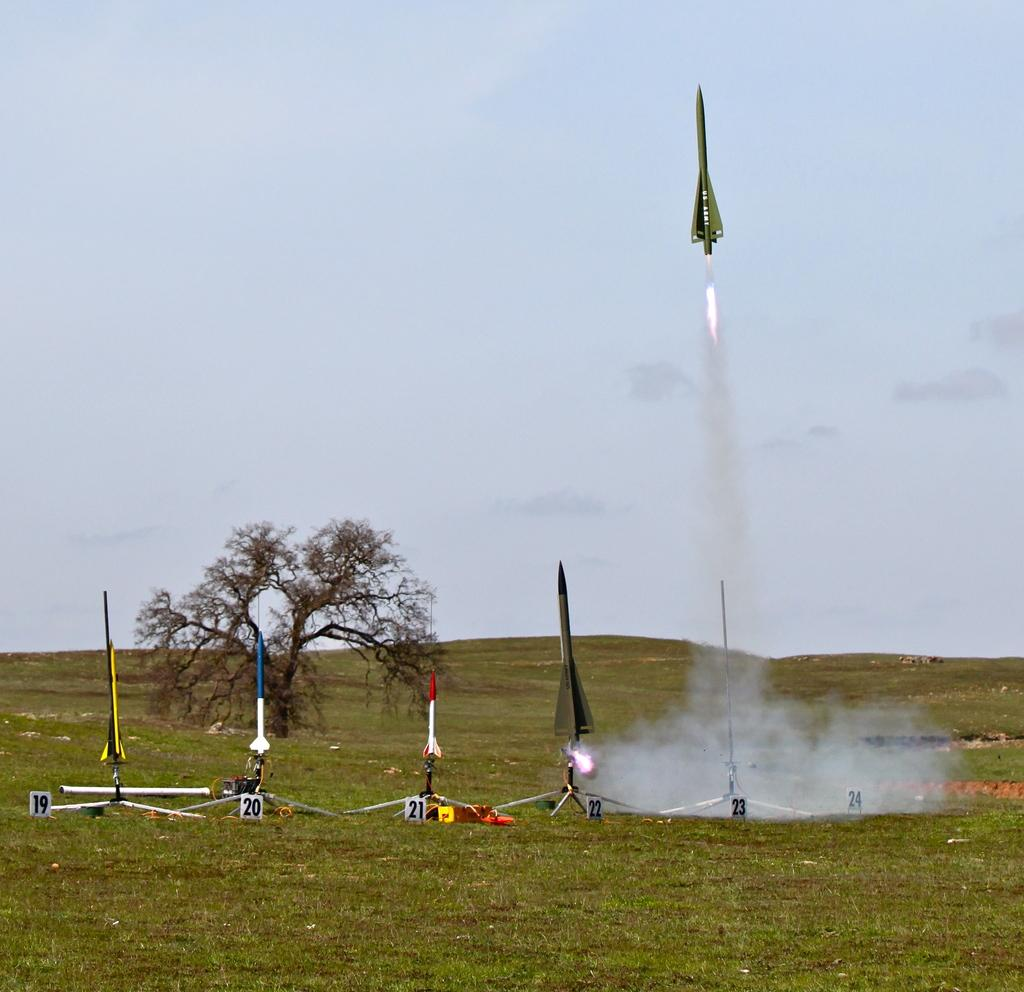Missile: (550, 564, 607, 754), (689, 83, 723, 257), (247, 630, 278, 762), (100, 635, 130, 766), (424, 671, 444, 761)
